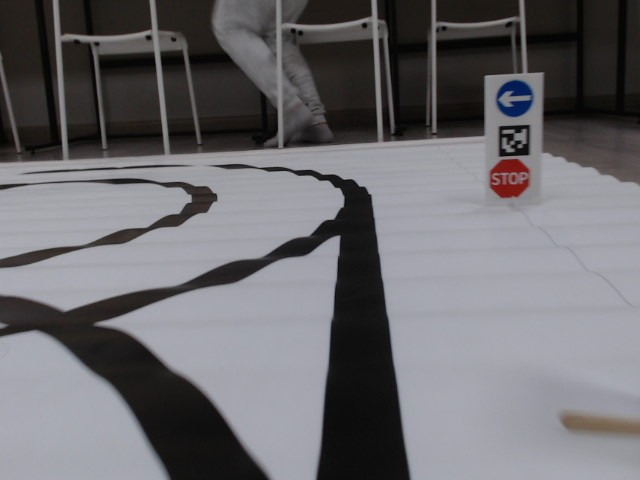Stop: (490, 160, 530, 197)
